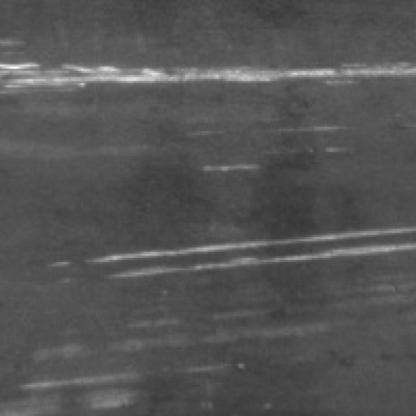scratches: (4, 50, 416, 102), (83, 218, 416, 281)
